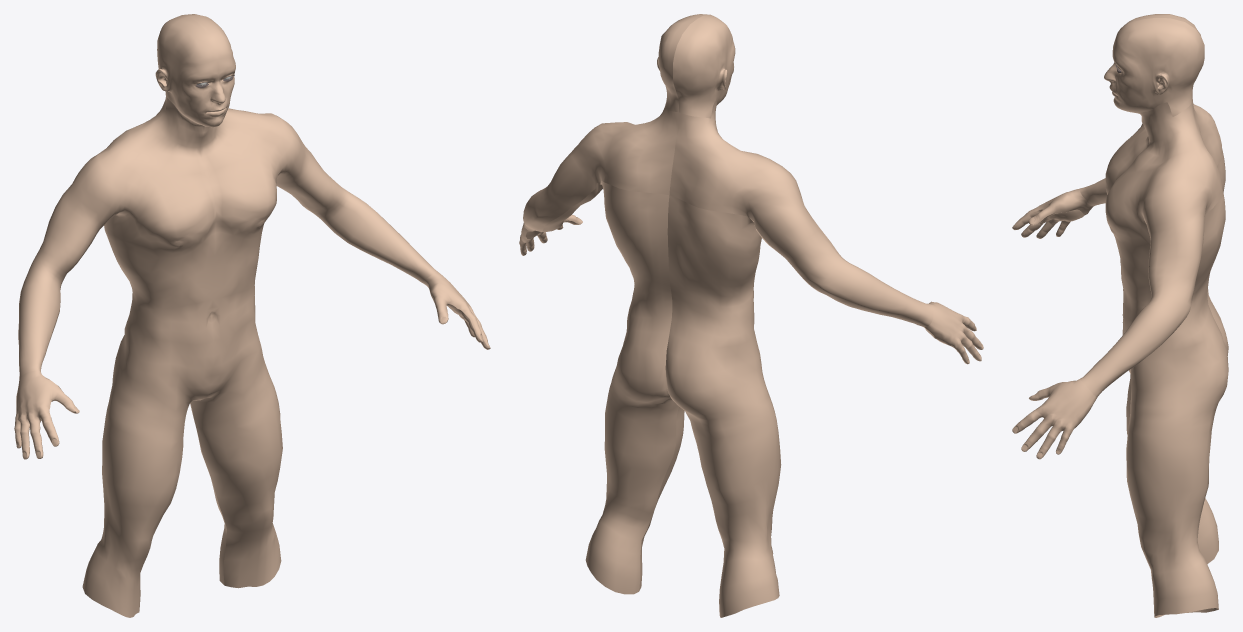
The model's file is body_shoes.glb.
3 views of the same model, side by side, from view 1: azimuth 30°, elevation 25°; view 2: azimuth 150°, elevation 25°; view 3: azimuth 270°, elevation 25° (orthographic). The views are drawn at different scales.
Visible parts, largest first — view 1: Body; view 2: Body; view 3: Body.
Boxes of the visible parts, x1=… form: Body: x1=14, y1=14, x2=490, y2=617; Body: x1=519, y1=14, x2=983, y2=617; Body: x1=1012, y1=14, x2=1228, y2=617.
Size of the model in its own units: 1.15 by 1.39 by 0.4755.
